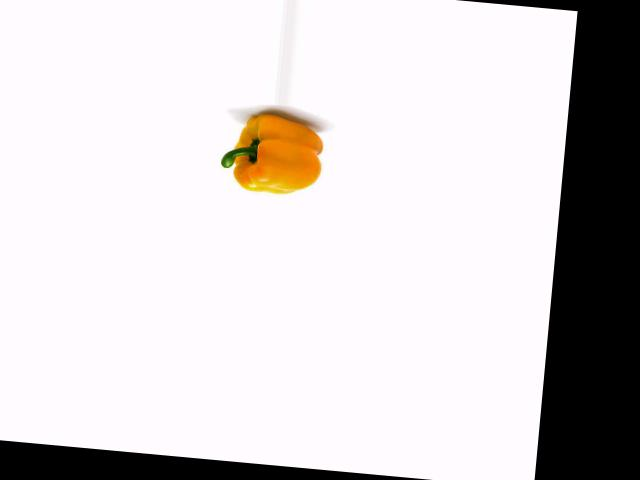bell_pepper: (209, 109, 328, 201)
